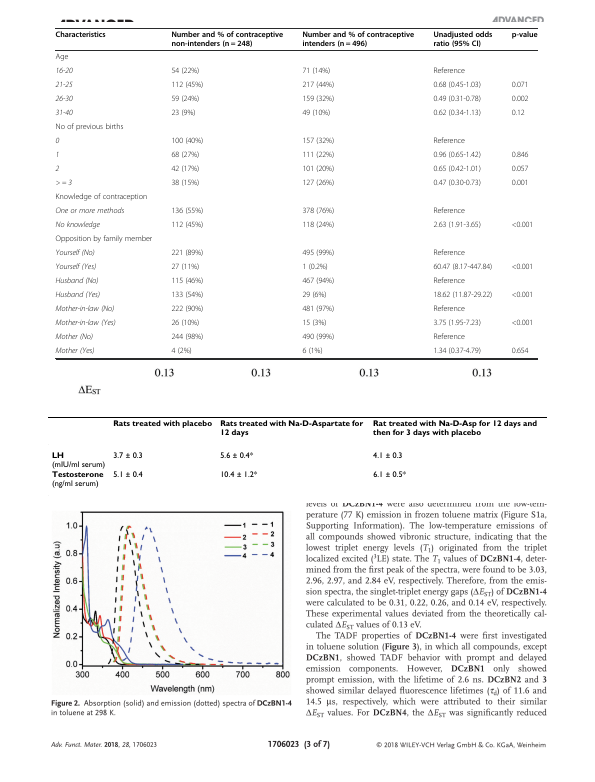borderless: (54, 27, 537, 358), (46, 415, 548, 497)
cell: (372, 420, 537, 438), (219, 420, 364, 438), (170, 31, 284, 49), (301, 31, 415, 49), (432, 31, 493, 49), (50, 451, 106, 470), (55, 235, 153, 245), (50, 471, 104, 489), (55, 193, 148, 203), (112, 420, 213, 429), (55, 123, 124, 133), (55, 207, 125, 216), (432, 263, 493, 273), (432, 291, 493, 301), (55, 319, 117, 328), (55, 305, 115, 314), (432, 81, 482, 91), (432, 95, 482, 105), (432, 109, 482, 119), (432, 151, 482, 161), (432, 165, 482, 175), (432, 179, 482, 189), (432, 221, 482, 231), (432, 319, 482, 329), (432, 347, 482, 357), (55, 31, 107, 40), (55, 221, 101, 231), (55, 291, 101, 300), (55, 277, 99, 286), (219, 470, 258, 480), (55, 263, 97, 272), (55, 249, 96, 258), (55, 347, 95, 356), (55, 333, 94, 342), (219, 451, 254, 461), (432, 67, 466, 77), (170, 81, 204, 91), (301, 81, 335, 91), (301, 95, 335, 105), (170, 137, 204, 147), (301, 137, 335, 147), (432, 137, 466, 147), (301, 151, 335, 161), (301, 165, 335, 175), (301, 179, 335, 189), (170, 207, 204, 217), (301, 207, 335, 217), (432, 207, 466, 217), (170, 221, 204, 231), (301, 221, 335, 231), (170, 249, 204, 259), (301, 249, 335, 259), (432, 249, 466, 259), (170, 277, 204, 287), (301, 277, 335, 287), (432, 277, 466, 287), (170, 291, 204, 301), (170, 305, 204, 315), (301, 305, 335, 315), (432, 305, 466, 315), (170, 333, 204, 343), (301, 333, 335, 343), (432, 333, 466, 343), (372, 470, 406, 480), (112, 451, 143, 461), (372, 451, 403, 461), (112, 470, 143, 480), (170, 67, 200, 77), (301, 67, 331, 77), (170, 95, 200, 105), (301, 109, 331, 119), (170, 151, 200, 161), (170, 165, 200, 175), (170, 179, 200, 189), (170, 263, 200, 273), (170, 319, 200, 329), (301, 263, 329, 273), (170, 109, 196, 119), (301, 291, 327, 301), (301, 319, 327, 329), (511, 31, 538, 40), (511, 221, 534, 231), (511, 263, 534, 273), (511, 291, 534, 301), (511, 319, 534, 329), (170, 347, 192, 357), (301, 347, 323, 357), (511, 81, 529, 91), (511, 95, 529, 105), (511, 151, 529, 161), (511, 165, 529, 175), (511, 179, 529, 189), (511, 347, 529, 357), (55, 67, 73, 76), (55, 81, 73, 90), (55, 95, 73, 104), (55, 109, 73, 118), (55, 179, 73, 188), (511, 109, 526, 119), (55, 53, 69, 63), (55, 137, 60, 146), (55, 151, 60, 160), (55, 165, 60, 174)
